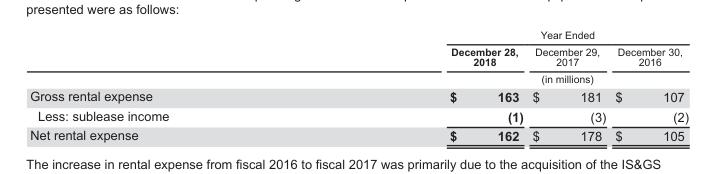table: (29, 28, 688, 142)
table column: (29, 28, 308, 142), (308, 28, 527, 142), (527, 28, 609, 142), (609, 28, 688, 142)
table column header: (29, 28, 688, 86)
table row: (29, 43, 688, 70), (29, 105, 688, 125), (29, 86, 688, 105), (29, 125, 688, 142), (29, 70, 688, 86), (29, 28, 688, 43)
table spanning cell: (308, 70, 688, 86), (308, 28, 688, 43)
